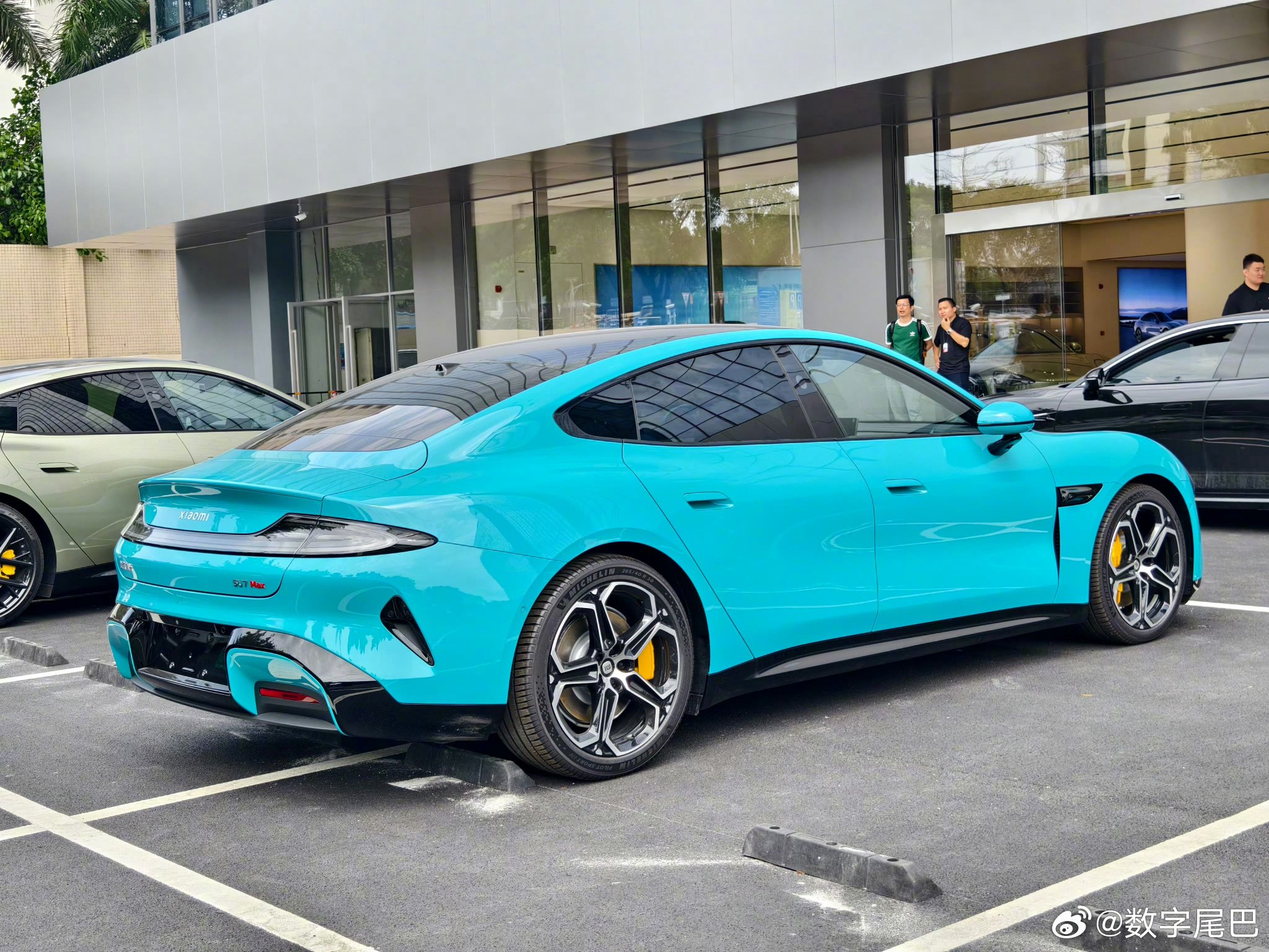su7: (95, 311, 1201, 781)
